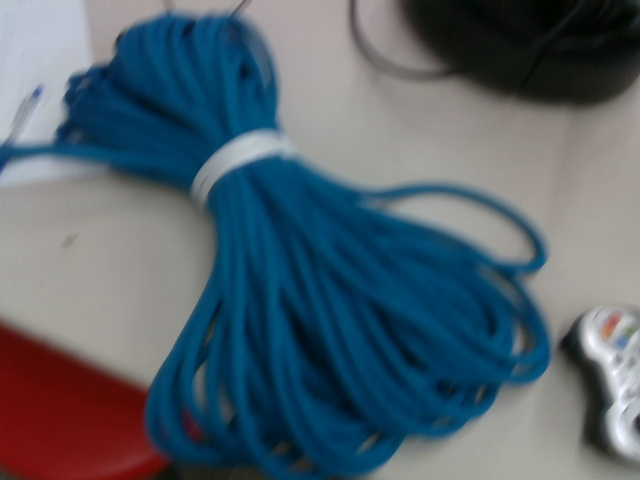rope: (1, 7, 564, 480)
